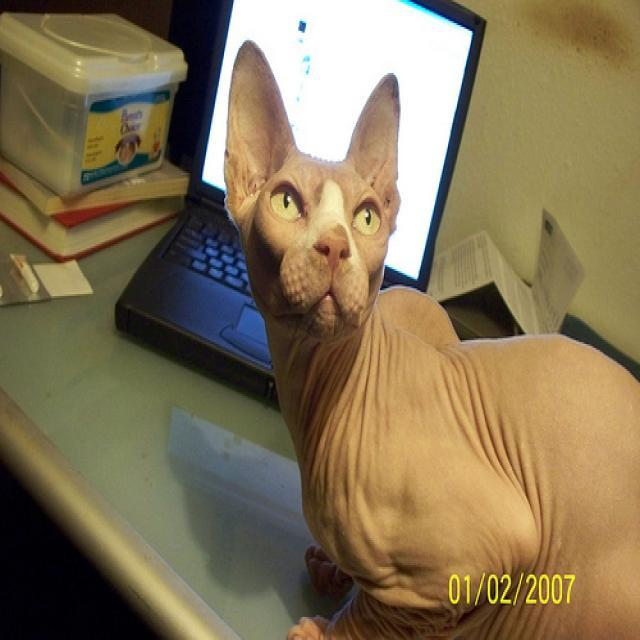Sphynx: (218, 25, 405, 354)
